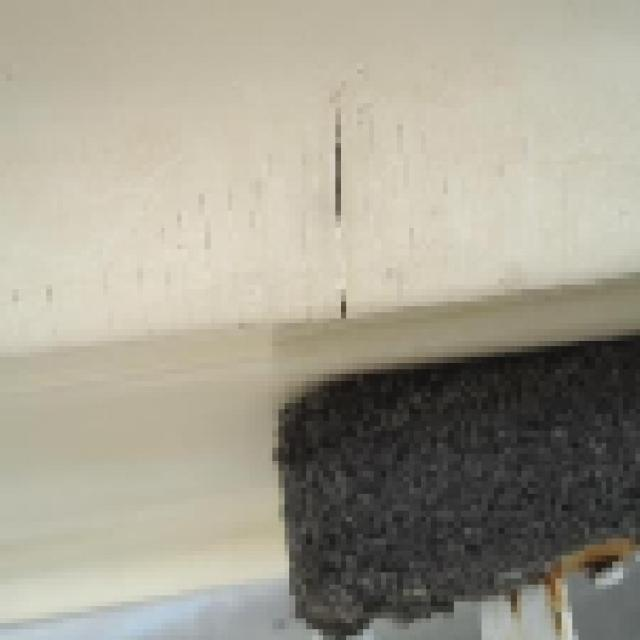crack: (331, 105, 348, 319)
